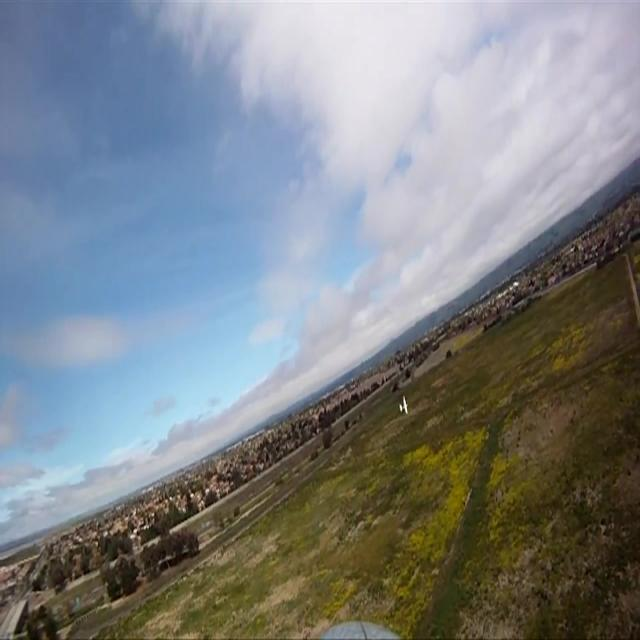iha: (402, 395, 405, 415)
